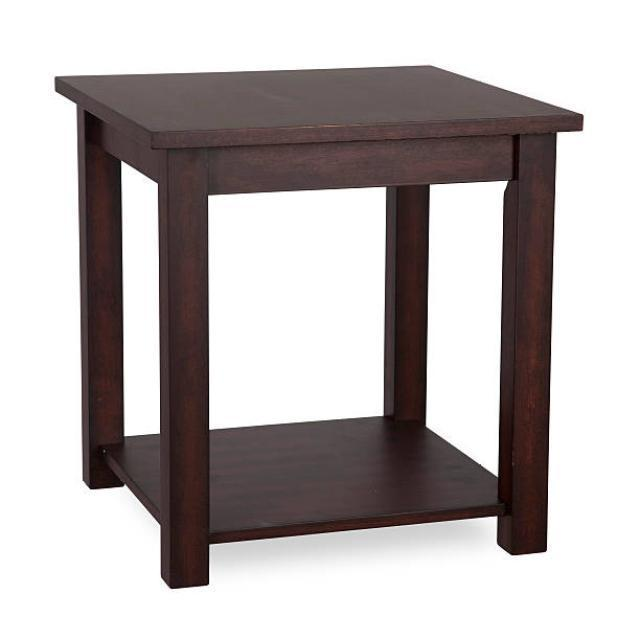table: (54, 62, 584, 588)
